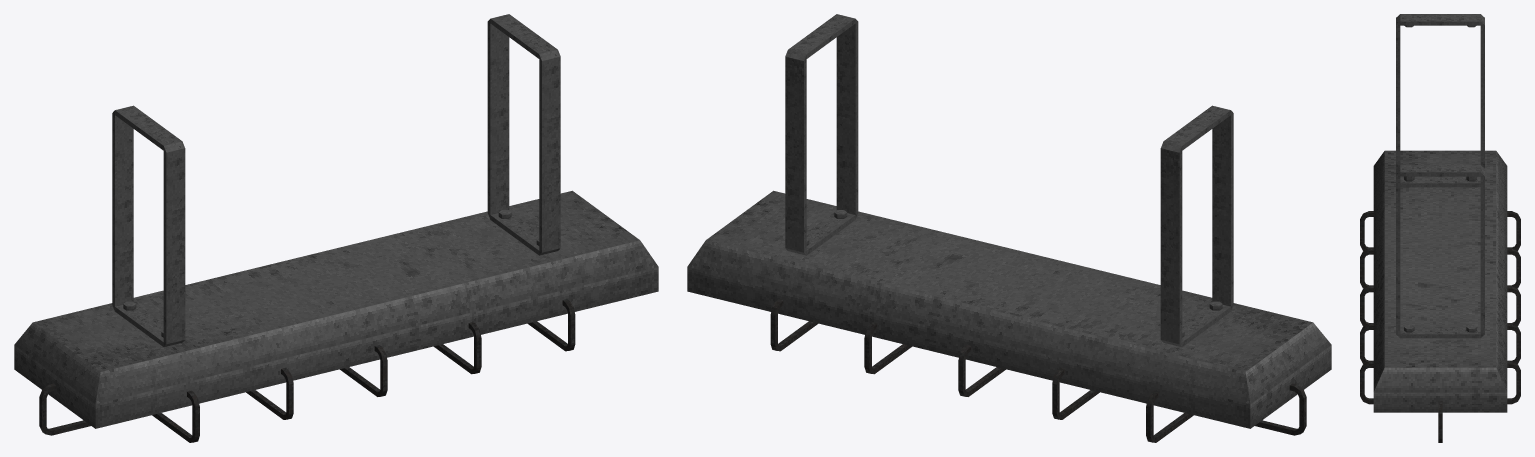
File: ceiling_lamp_4_1_b_on.glb
3 renders of one model, left to right at view 1: azimuth 30°, elevation 25°; view 2: azimuth 150°, elevation 25°; view 3: azimuth 270°, elevation 25°, orthographic. The views are drawn at different scales.
Parts seen in each view (by area): view 1: ceiling_lamp_4_1_b_on, ceiling_lamp_4_1_b_on_protector; view 2: ceiling_lamp_4_1_b_on, ceiling_lamp_4_1_b_on_protector; view 3: ceiling_lamp_4_1_b_on, ceiling_lamp_4_1_b_on_protector.
Boxes of the visible parts, box(x1,y1,x2,y2) form: ceiling_lamp_4_1_b_on: box(14, 14, 658, 428); ceiling_lamp_4_1_b_on_protector: box(39, 299, 575, 442); ceiling_lamp_4_1_b_on: box(687, 14, 1331, 428); ceiling_lamp_4_1_b_on_protector: box(770, 299, 1306, 442); ceiling_lamp_4_1_b_on: box(1373, 14, 1507, 412); ceiling_lamp_4_1_b_on_protector: box(1360, 211, 1520, 442).
Size of the model in its own units: 1.26 by 0.58 by 0.36.
2 materials, 2 textured.
